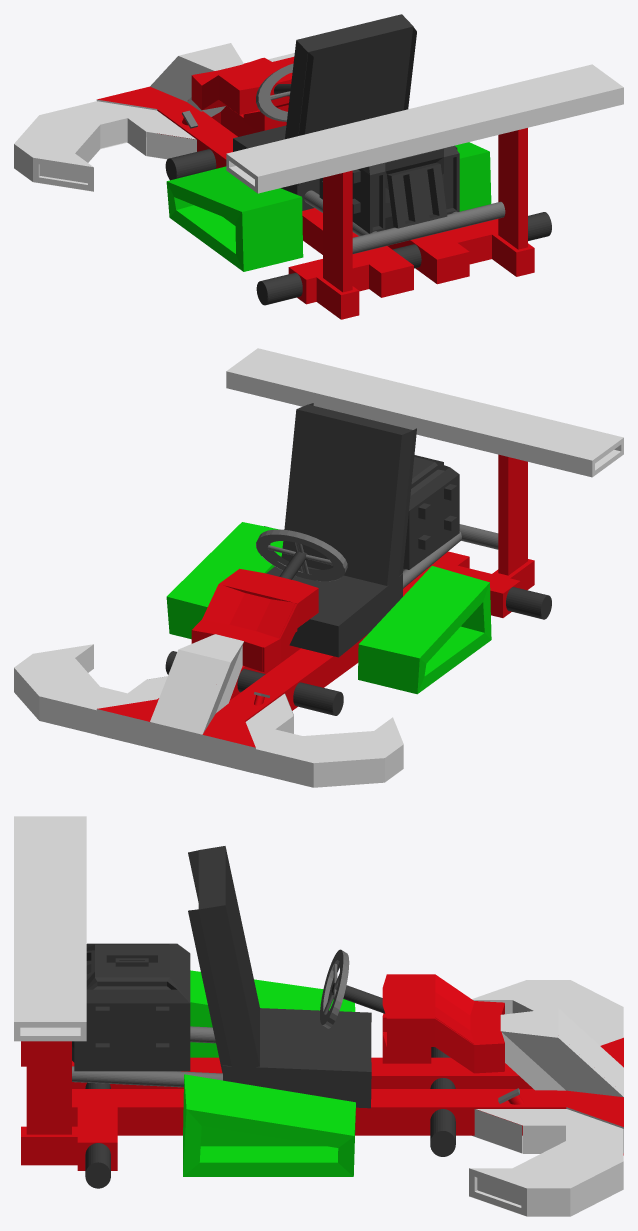
The model's file is KartModJoao1.fbx.
3 renders of one model, top to bottom at view 1: azimuth 30°, elevation 25°; view 2: azimuth 150°, elevation 25°; view 3: azimuth 270°, elevation 25°, orthographic. The views are drawn at different scales.
Visible parts, largest first — view 1: Cube; view 2: Cube; view 3: Cube.
Boxes of the visible parts, box(x1,y1,x2,y2) form: Cube: box(14, 14, 623, 319); Cube: box(14, 348, 623, 787); Cube: box(14, 816, 623, 1216).
Bounding box in the file's own units: 1624 × 696 × 1314.
